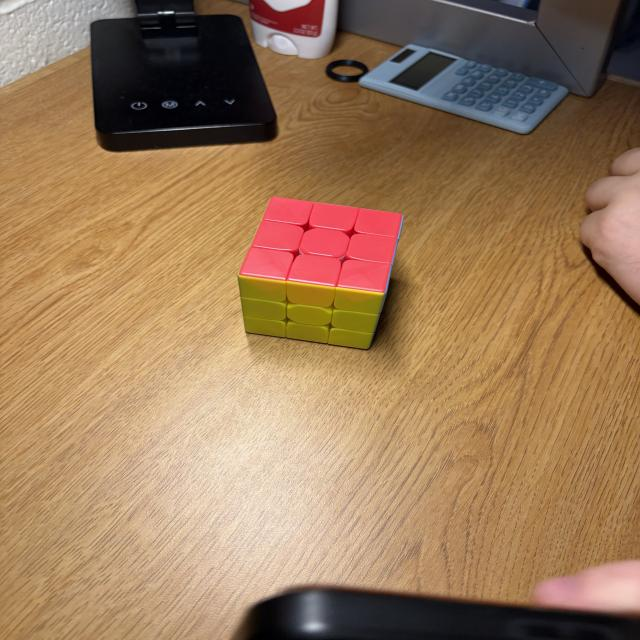Rubiks Cube: (238, 196, 403, 349)
